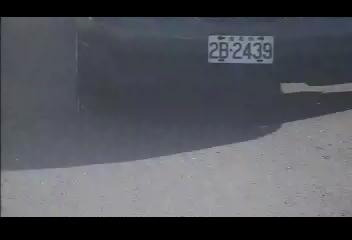plate: (206, 34, 276, 66)
